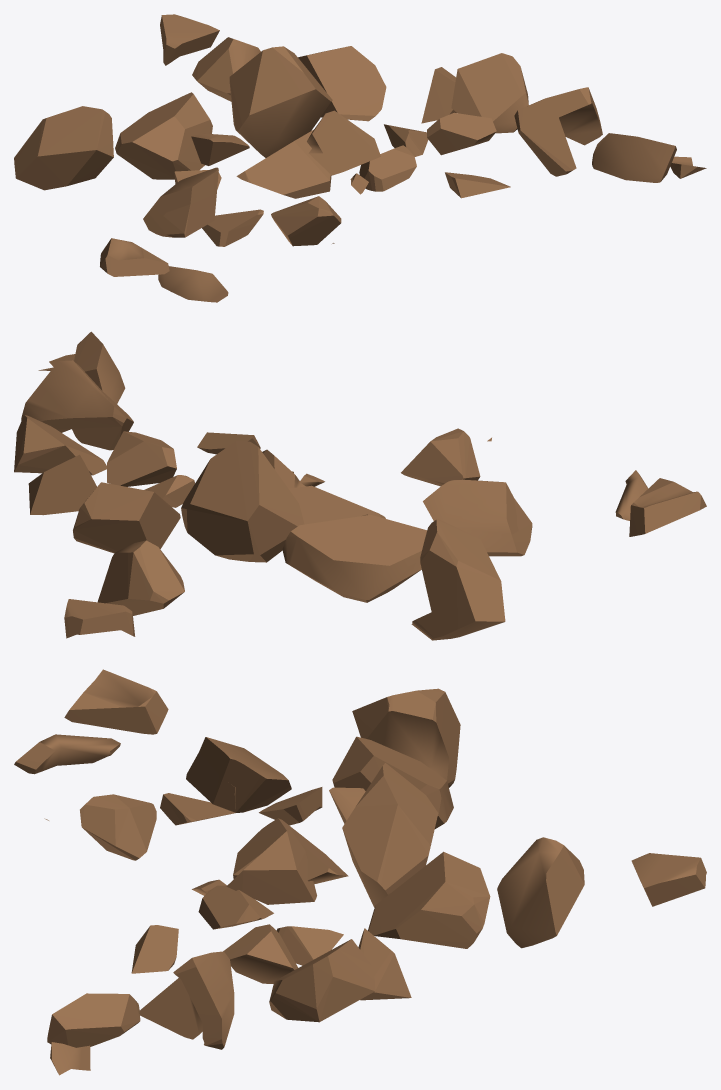
The model's file is Vase middle fragments.fbx.
The picture shows the model from 3 angles, top to bottom: view 1: azimuth 30°, elevation 25°; view 2: azimuth 150°, elevation 25°; view 3: azimuth 270°, elevation 25°; orthographic projection. The views are drawn at different scales.
Parts seen in each view (by area): view 1: Vase middle fragments; view 2: Vase middle fragments; view 3: Vase middle fragments.
Boxes of the visible parts, bbox=[...] form: Vase middle fragments: bbox=[14, 14, 706, 302]; Vase middle fragments: bbox=[14, 331, 706, 640]; Vase middle fragments: bbox=[14, 669, 706, 1075].
Size of the model in its own units: 121 by 24.25 by 99.28.
